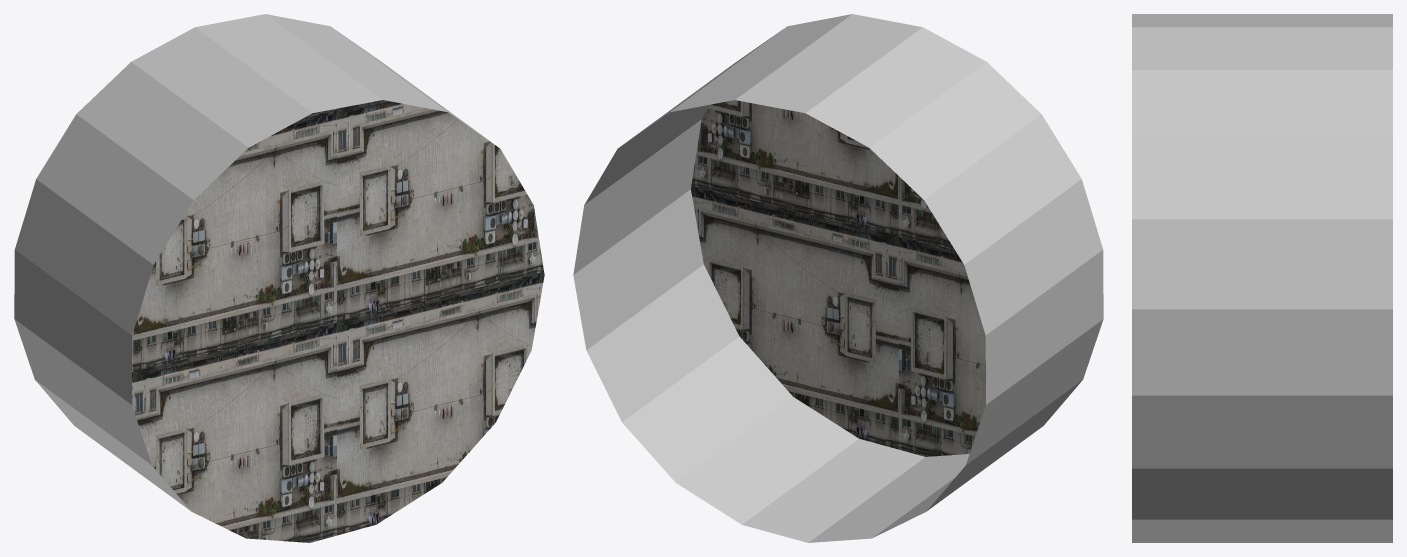
File: geospecific_648.obj
3 renders of one model, left to right at view 1: azimuth 30°, elevation 25°; view 2: azimuth 150°, elevation 25°; view 3: azimuth 270°, elevation 25°, orthographic. The views are drawn at different scales.
Parts seen in each view (by area): view 1: Building; view 2: Building; view 3: Building.
Boxes of the visible parts, x1,y1,x2,y2 form: Building: (14,14,544,542); Building: (573,14,1103,542); Building: (1132,14,1392,542).
Bounding box in the file's own units: 30.42 × 30.21 × 15.
